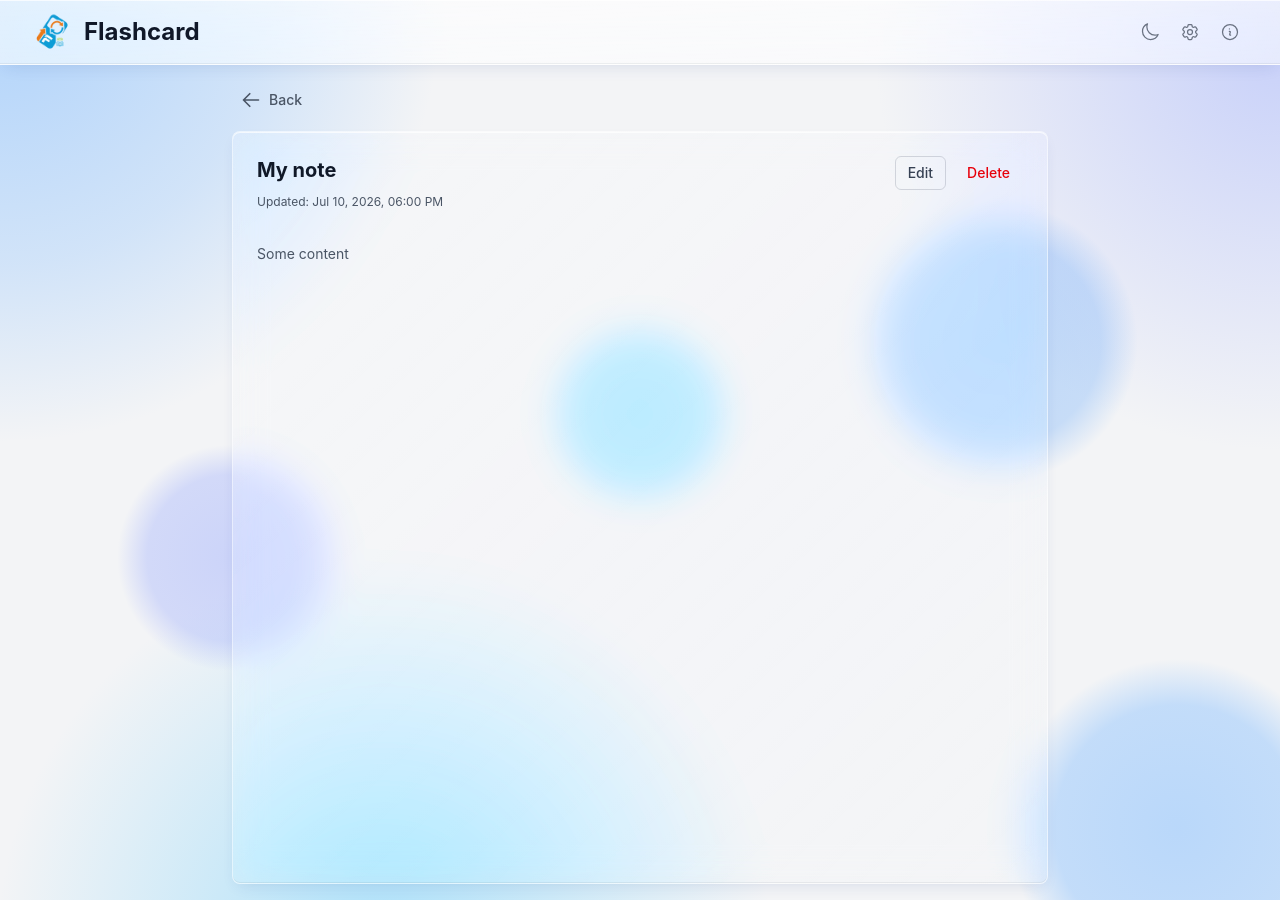
it: NoteDetailPage › disables Save while editing when the title is cleared
expect the heading "My note" is shown: met, box left=257, top=156, right=336, bottom=184
Click the button "Edit" at coordinates (920, 173), box left=895, top=156, right=946, bottom=190
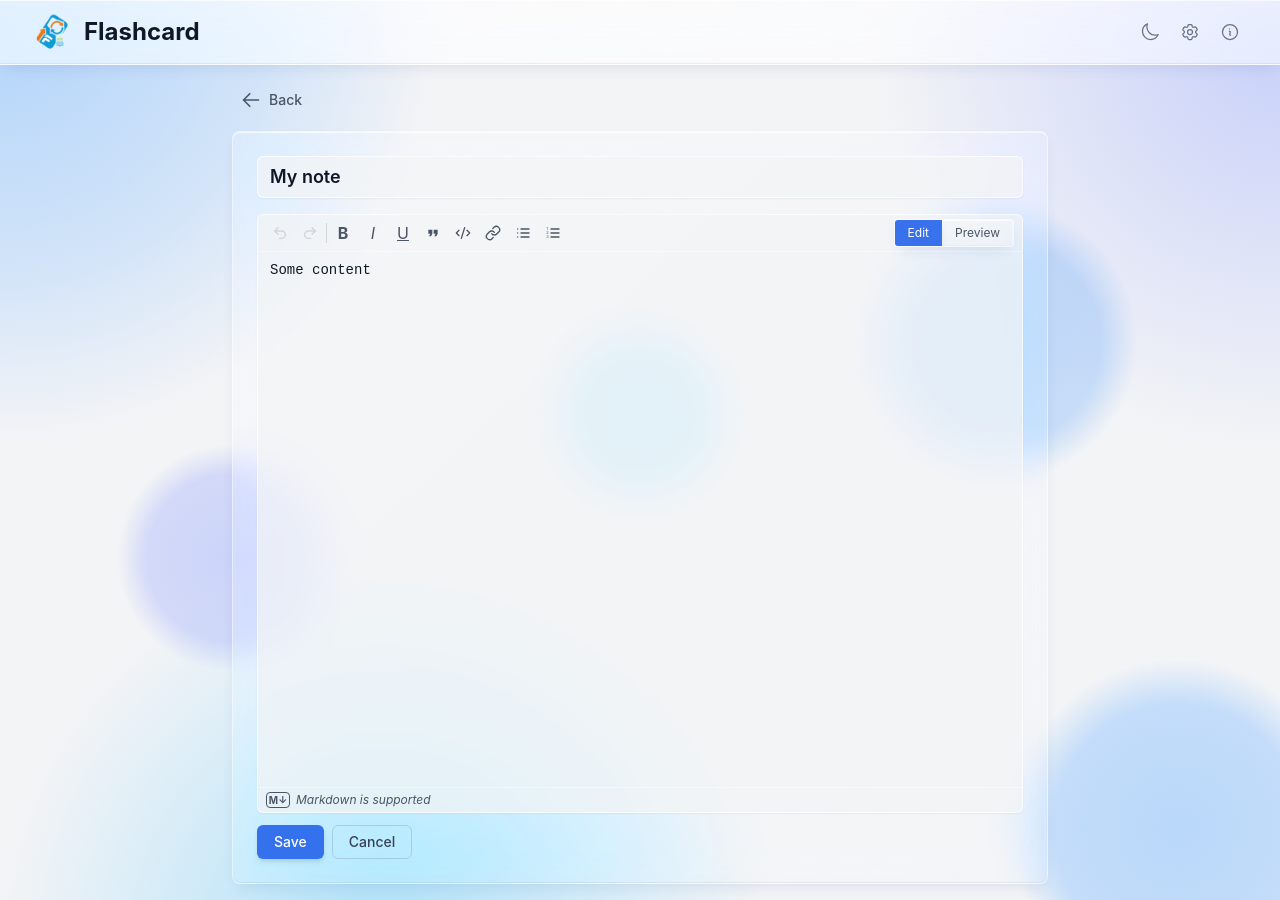
Clear the field with placeholder "Note title" at coordinates (640, 177), box left=257, top=156, right=1023, bottom=198
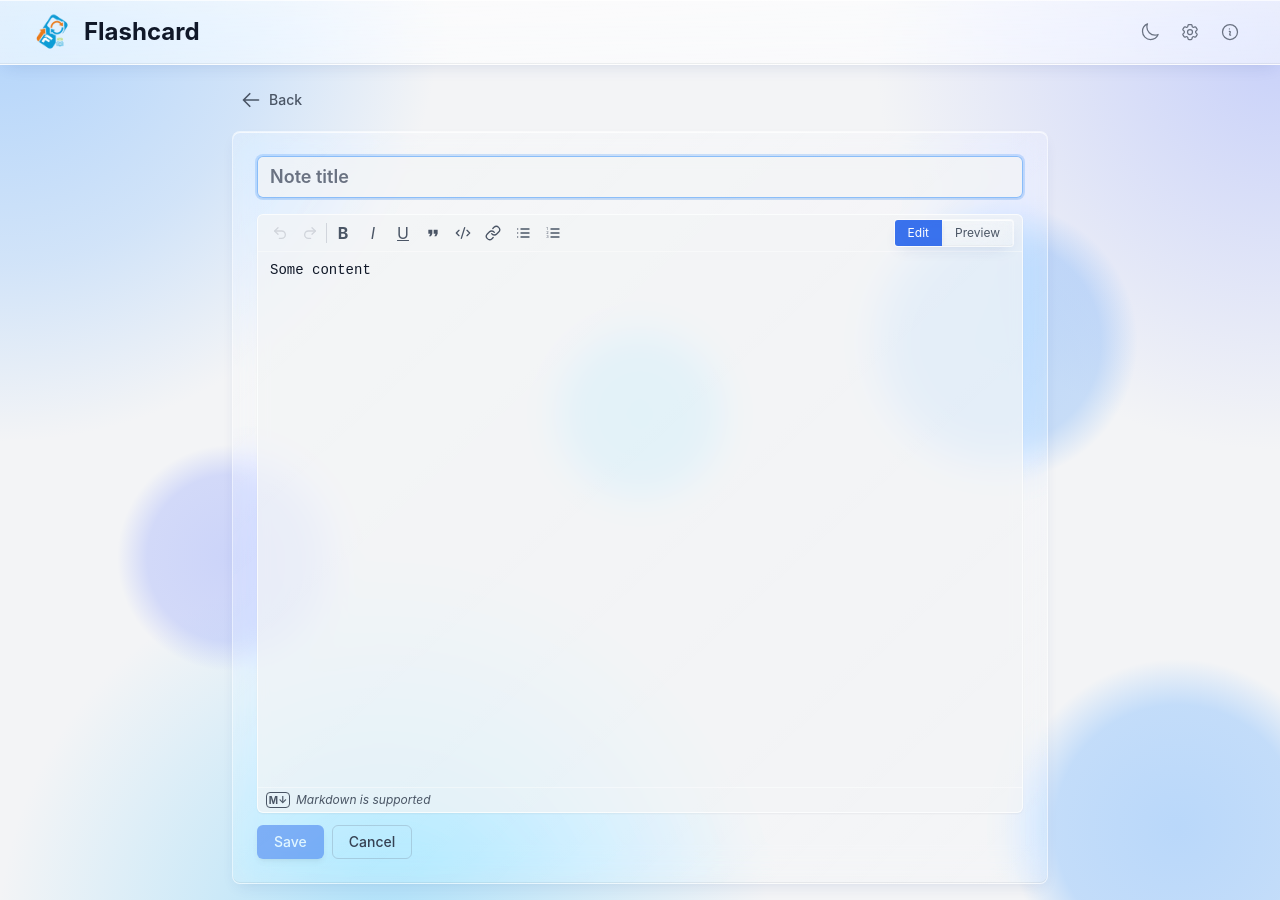
expect the button "Save" is disabled: met, box left=257, top=825, right=324, bottom=859
